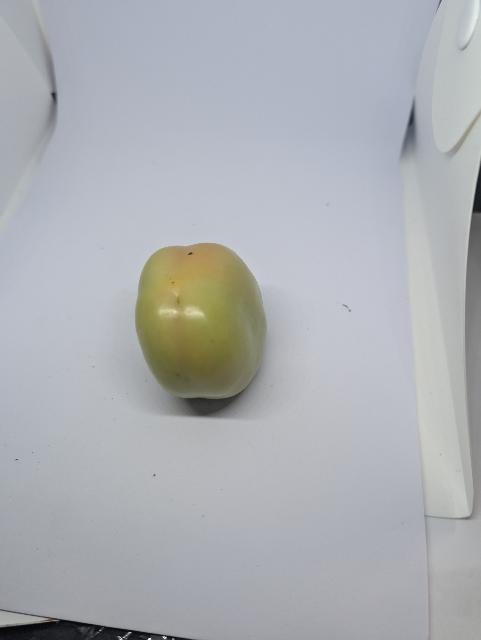breaker: (134, 239, 270, 404)
